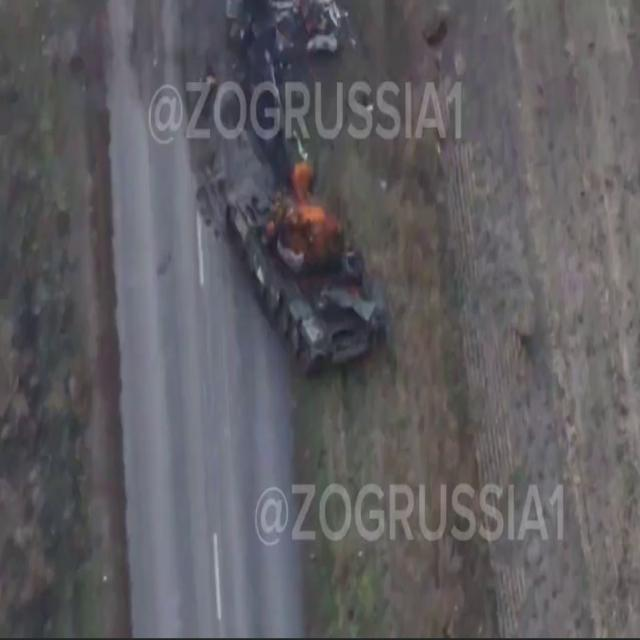vehicle: (221, 158, 411, 390)
